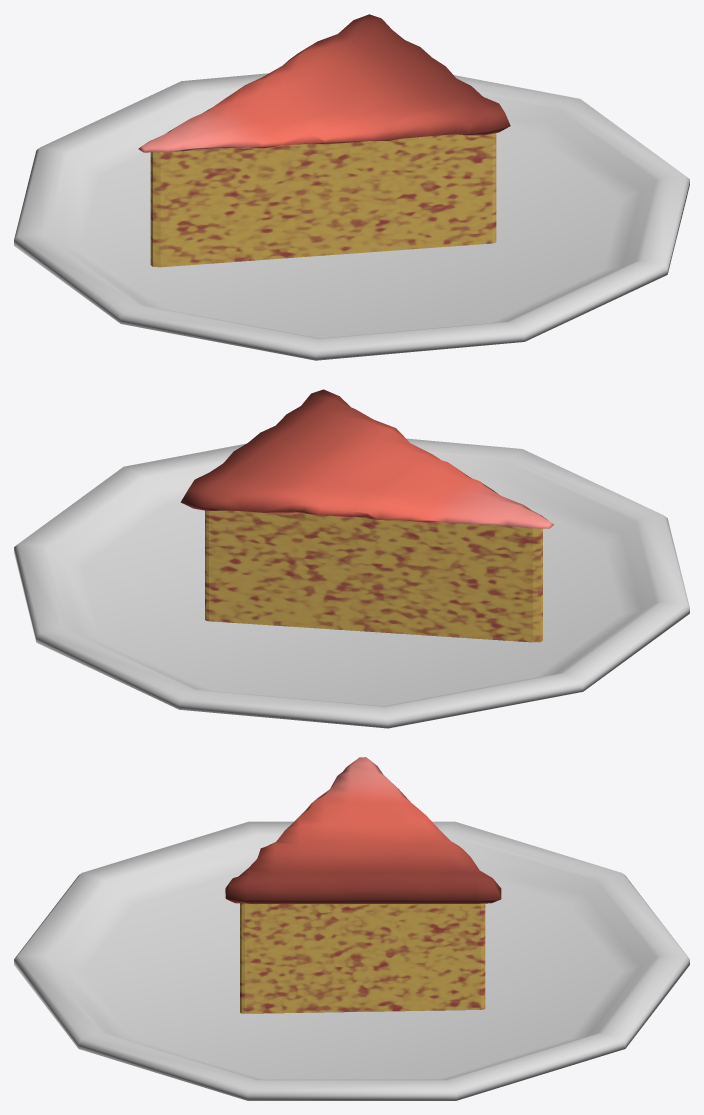
Rendered from Tarta.glb.
3 views of the same model, one above another, from view 1: azimuth 30°, elevation 25°; view 2: azimuth 150°, elevation 25°; view 3: azimuth 270°, elevation 25° (orthographic). The views are drawn at different scales.
Parts seen in each view (by area): view 1: Circle, Liquid Domain; view 2: Circle, Liquid Domain; view 3: Circle, Liquid Domain.
Part boxes in pixels (bbox=[...]): Circle: bbox=[14, 73, 689, 360]; Liquid Domain: bbox=[138, 14, 510, 267]; Circle: bbox=[14, 438, 689, 728]; Liquid Domain: bbox=[180, 389, 553, 642]; Circle: bbox=[14, 821, 689, 1100]; Liquid Domain: bbox=[225, 757, 501, 1013].
Bounding box in the file's own units: 1.84 × 0.4492 × 1.93.
Materials: 3 (2 with a texture image).
